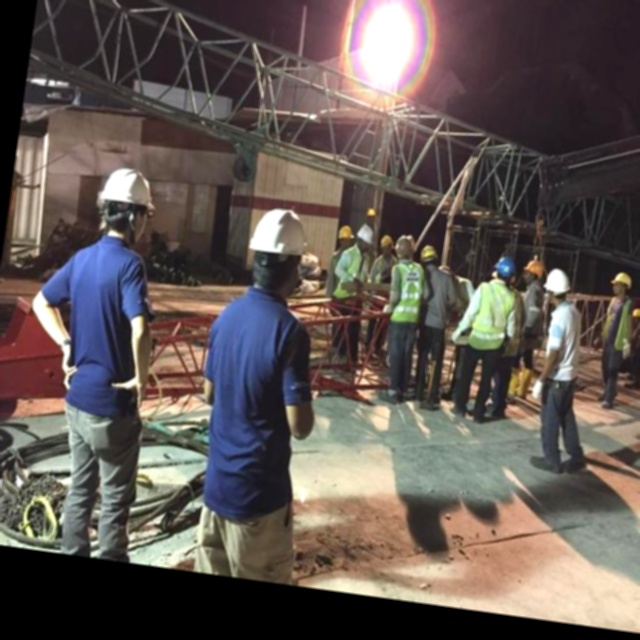Con_Casco: (245, 205, 316, 295), (97, 164, 156, 242)
Con_Chaleco: (469, 280, 518, 350), (388, 260, 425, 321)
Sin_Chaleco: (190, 296, 317, 502), (58, 244, 157, 409)
